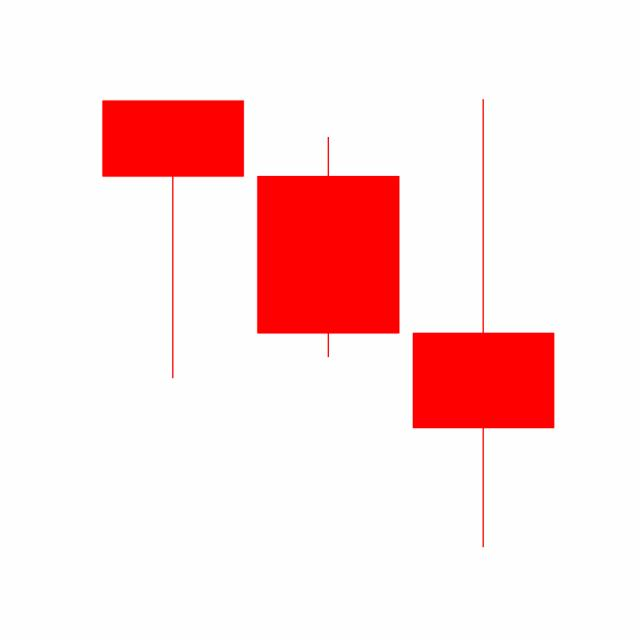Marubozu: (249, 134, 406, 360)
